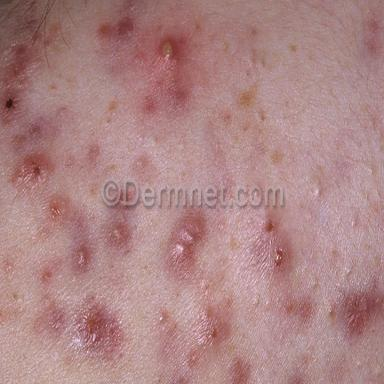acne: (75, 305, 123, 359), (340, 281, 384, 336), (169, 214, 205, 277), (11, 155, 52, 191), (197, 306, 224, 347), (158, 33, 185, 71), (364, 12, 382, 57), (98, 18, 134, 40), (107, 218, 131, 248), (162, 86, 189, 111), (157, 308, 178, 340), (227, 357, 251, 384), (290, 297, 312, 321), (47, 303, 65, 331), (13, 45, 29, 76), (0, 91, 17, 117), (74, 245, 90, 269), (133, 155, 152, 174), (49, 197, 65, 219), (273, 244, 286, 270), (29, 119, 45, 140), (74, 210, 86, 232), (87, 144, 100, 164), (143, 96, 157, 114), (288, 373, 305, 384), (13, 134, 26, 146), (41, 269, 52, 282), (265, 219, 275, 233), (56, 100, 66, 114), (188, 354, 198, 367), (135, 51, 143, 66), (65, 156, 75, 167), (4, 262, 12, 272)
